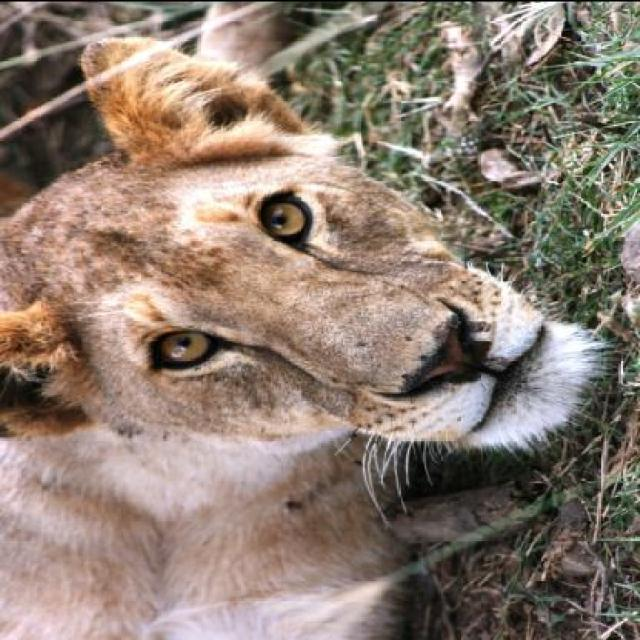Lion: (11, 21, 638, 638)
